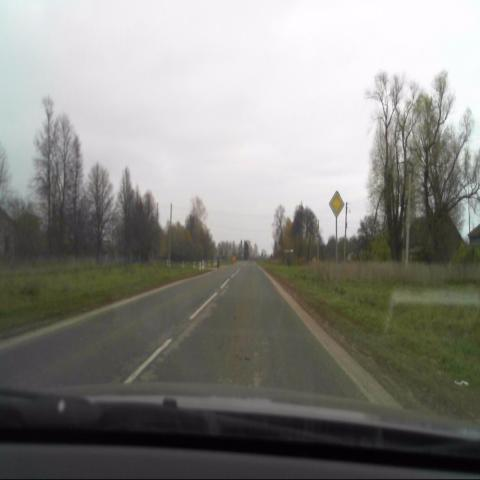2_1: (328, 190, 345, 219)
